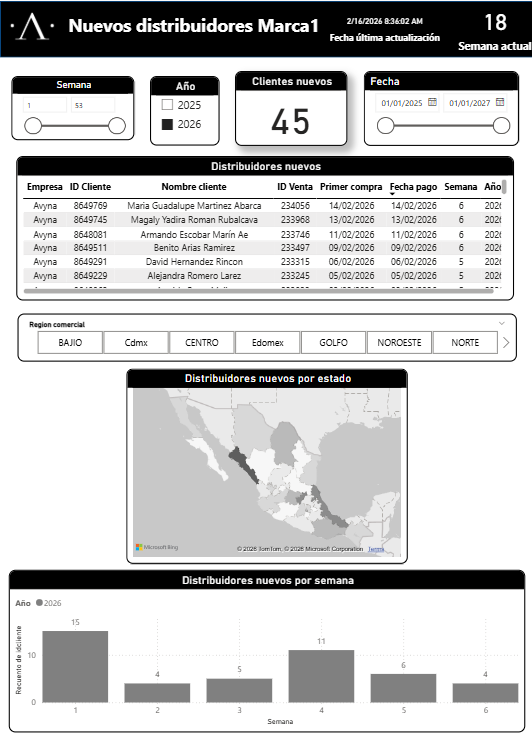

What the dashboard file says about the page in this screenshot:
{"tool":"powerbi","page":{"name":"Distribuidores nuevos AVN","canvas":[800,1100],"ordinal":1},"visuals":[{"type":"shape","box":[0,0,799.8,84.3],"z":0},{"type":"tableEx","title":"Distribuidores nuevos","fields":{"Values":["Clientes_primer_compra.Empresa","Clientes_primer_compra.idcliente","Clientes_primer_compra.nombre_cliente","Clientes_primer_compra.idventa","Clientes_primer_compra.primer_compra","Clientes_primer_compra.fecha_pago","CalendarioSemanasPSGroup.Nweek","CalendarioSemanasPSGroup.Nyear"]},"box":[24,232,744,216],"z":1000},{"type":"card","fields":{"Values":["CalendarioSemanasPSGroup.semana_actual"]},"box":[680,0,120,80],"z":2000},{"type":"card","title":"Clientes nuevos","fields":{"Values":["Count(Clientes_primer_compra.idcliente)"]},"box":[352,104,168,112],"z":3000},{"type":"slicer","title":"Semana","fields":{"Values":["CalendarioSemanasPSGroup.Nweek"]},"box":[16,112,184,96],"z":4000},{"type":"slicer","title":"Fecha","fields":{"Values":["CalendarioSemanasPSGroup.day"]},"box":[544,104,232,112],"z":5000},{"type":"textbox","box":[97.8,12.2,402.2,57.8],"z":6000},{"type":"clusteredColumnChart","title":"Distribuidores nuevos por semana","fields":{"Category":["CalendarioSemanasPSGroup.Nweek"],"Y":["Count(Clientes_primer_compra.idcliente)"],"Series":["CalendarioSemanasPSGroup.Nyear"]},"box":[14,850,772,243],"z":7000},{"type":"card","fields":{"Values":["Min(fecha_actualizacion.Fecha última actualización)"]},"box":[434.5,6.4,280,70],"z":8000},{"type":"image","box":[0,0,96,80],"z":9000},{"type":"filledMap","title":"Distribuidores nuevos por estado","fields":{"Category":["Clientes_primer_compra.Estado"]},"box":[189,550,421,292],"z":10000},{"type":"slicer","fields":{"Values":["Clientes_primer_compra.RegionComercial"]},"box":[27,467,746,72],"z":11000},{"type":"slicer","title":"Año","fields":{"Values":["CalendarioSemanasPSGroup.Nyear"]},"box":[224,112,104,104],"z":12000}]}

Visuals, with their boxes in screenshot pixels (x1, y1, x2, y2), scaled from the page's 800x1100 canvas onto the 532x733 screenshot:
shape: x1=0, y1=0, x2=531, y2=56
"Distribuidores nuevos" tableEx: x1=16, y1=155, x2=511, y2=299
card - CalendarioSemanasPSGroup.semana_actual: x1=452, y1=0, x2=531, y2=53
"Clientes nuevos" card: x1=234, y1=69, x2=346, y2=144
"Semana" slicer: x1=11, y1=75, x2=133, y2=139
"Fecha" slicer: x1=362, y1=69, x2=516, y2=144
textbox: x1=65, y1=8, x2=332, y2=47
"Distribuidores nuevos por semana" clusteredColumnChart: x1=9, y1=566, x2=523, y2=728
card - Min(fecha_actualizacion.Fecha última actualización): x1=289, y1=4, x2=475, y2=51
image: x1=0, y1=0, x2=64, y2=53
"Distribuidores nuevos por estado" filledMap: x1=126, y1=366, x2=406, y2=561
slicer - Clientes_primer_compra.RegionComercial: x1=18, y1=311, x2=514, y2=359
"Año" slicer: x1=149, y1=75, x2=218, y2=144
